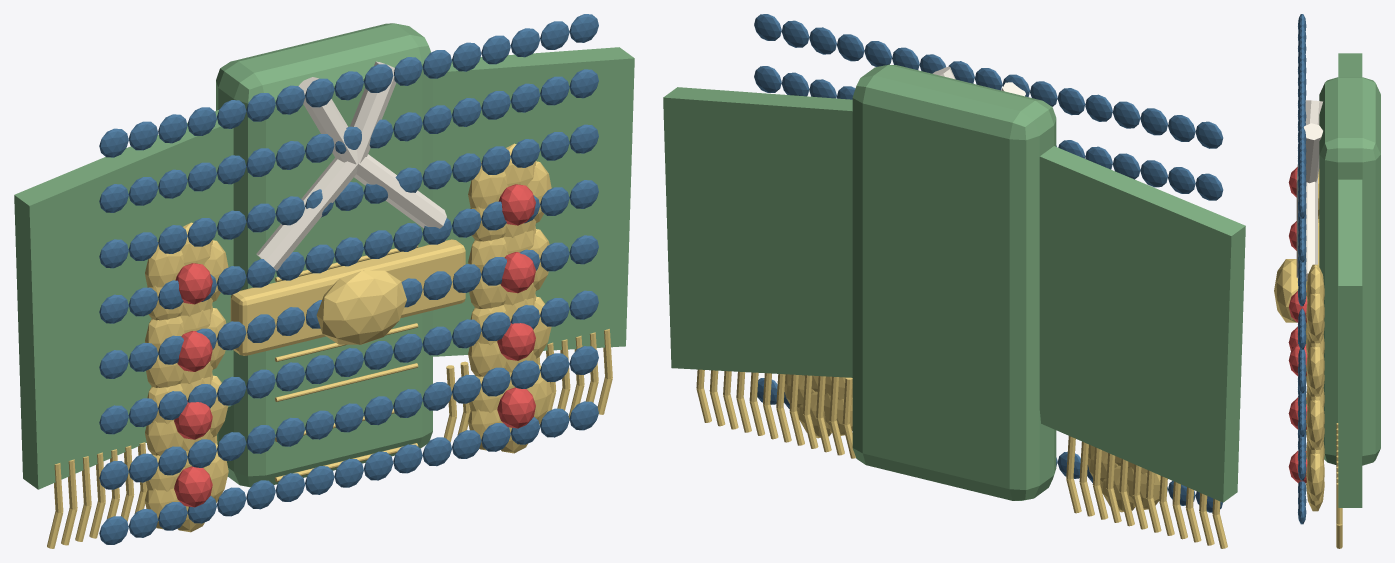
File: buyo_folk_shishimai_cloth.glb
3 renders of one model, left to right at view 1: azimuth 30°, elevation 25°; view 2: azimuth 150°, elevation 25°; view 3: azimuth 270°, elevation 25°, orthographic. The views are drawn at different scales.
Visible parts, largest first — view 1: Shishimai cotton green striped dance cloth left ample sleeve, Shishimai cotton green striped dance cloth long body, Shishimai cotton green striped dance cloth right ample sleev, Shishimai cotton green striped dance cloth embroidered chrys (×16), Shishimai cotton green striped dance cloth crossed ivory col (×4), Shishimai cotton green striped dance cloth decorative sash, Shishimai cotton green striped dance cloth central ornate kn, Shishimai cotton green striped dance cloth brocade lower pat; view 2: Shishimai cotton green striped dance cloth long body, Shishimai cotton green striped dance cloth left ample sleeve, Shishimai cotton green striped dance cloth right ample sleev; view 3: Shishimai cotton green striped dance cloth long body, Shishimai cotton green striped dance cloth right ample sleev, Shishimai cotton green striped dance cloth embroidered chrys (×16), Shishimai cotton green striped dance cloth crossed ivory col (×3), Shishimai cotton green striped dance cloth central ornate kn, Shishimai cotton green striped dance cloth left ample sleeve, Shishimai cotton green striped dance cloth sleeve tassel11_0 (×2), Indigo shishimai scale pattern.128, Indigo shishimai scale pattern.129, Indigo shishimai scale pattern.134, Indigo shishimai scale pattern.131, Indigo shishimai scale pattern.132 (+3 smaller).
Part boxes in pixels (<box>): Shishimai cotton green striped dance cloth left ample sleeve: <box>14,110,233,489</box>; Shishimai cotton green striped dance cloth long body: <box>216,23,432,487</box>; Shishimai cotton green striped dance cloth right ample sleev: <box>433,47,634,356</box>; Shishimai cotton green striped dance cloth embroidered chrys (×16): <box>145,162,535,507</box>; Shishimai cotton green striped dance cloth crossed ivory col (×4): <box>256,61,446,270</box>; Shishimai cotton green striped dance cloth decorative sash: <box>230,239,465,355</box>; Shishimai cotton green striped dance cloth central ornate kn: <box>316,270,406,344</box>; Shishimai cotton green striped dance cloth brocade lower pat: <box>275,363,418,401</box>; Shishimai cotton green striped dance cloth long body: <box>852,64,1056,500</box>; Shishimai cotton green striped dance cloth left ample sleeve: <box>1039,146,1245,502</box>; Shishimai cotton green striped dance cloth right ample sleev: <box>663,87,852,377</box>; Shishimai cotton green striped dance cloth long body: <box>1319,77,1380,465</box>; Shishimai cotton green striped dance cloth right ample sleev: <box>1338,179,1362,507</box>; Shishimai cotton green striped dance cloth embroidered chrys (×16): <box>1288,167,1324,511</box>; Shishimai cotton green striped dance cloth crossed ivory col (×3): <box>1296,100,1322,281</box>; Shishimai cotton green striped dance cloth central ornate kn: <box>1274,259,1298,322</box>; Shishimai cotton green striped dance cloth left ample sleeve: <box>1338,53,1362,77</box>; Shishimai cotton green striped dance cloth sleeve tassel11_0 (×2): <box>1336,483,1342,548</box>; Indigo shishimai scale pattern.128: <box>1298,500,1306,524</box>; Indigo shishimai scale pattern.129: <box>1298,456,1306,480</box>; Indigo shishimai scale pattern.134: <box>1298,238,1306,262</box>; Indigo shishimai scale pattern.131: <box>1298,369,1306,393</box>; Indigo shishimai scale pattern.132: <box>1298,325,1306,349</box>.
Size of the model in its own units: 1.95 by 1.33 by 0.3786.
